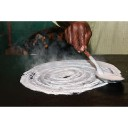dosa: (20, 58, 122, 93)
